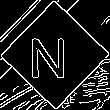N_N: (35, 29, 75, 81)
